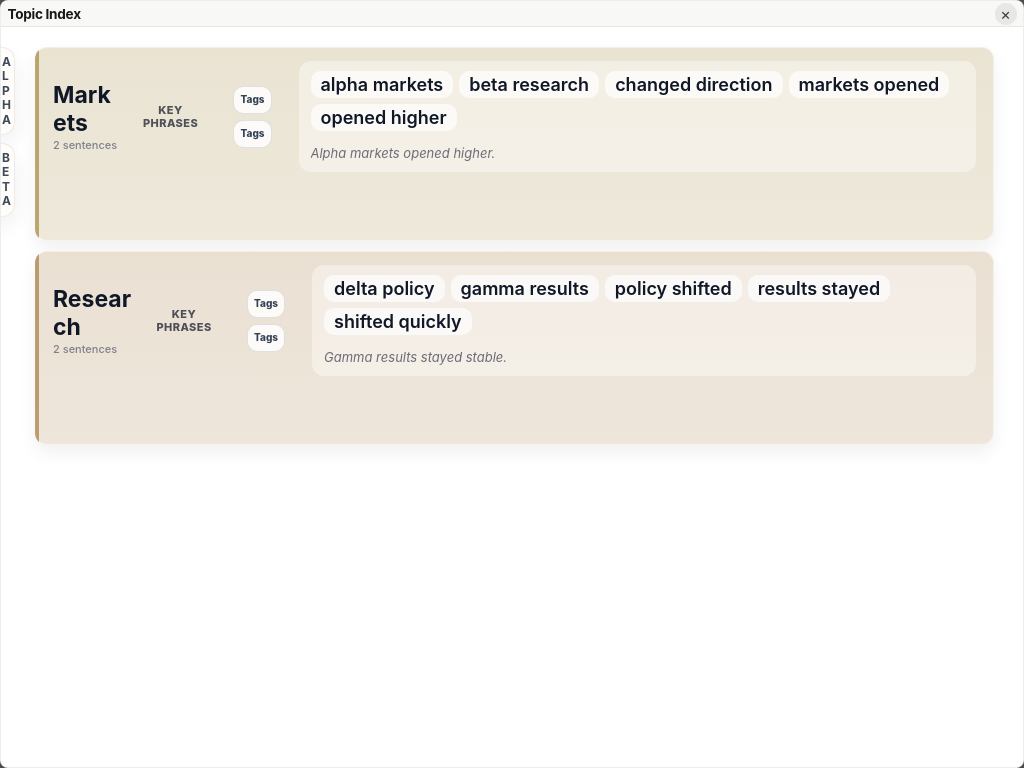
Test case: TopicIndexView › switches tile metadata independently per tile
Advance first tile to Tags (next after Key Phrases, with no subtopics)
Click the button with aria-label "Show next Tags for Alpha > Markets": [252, 134] box [234,120,272,148]
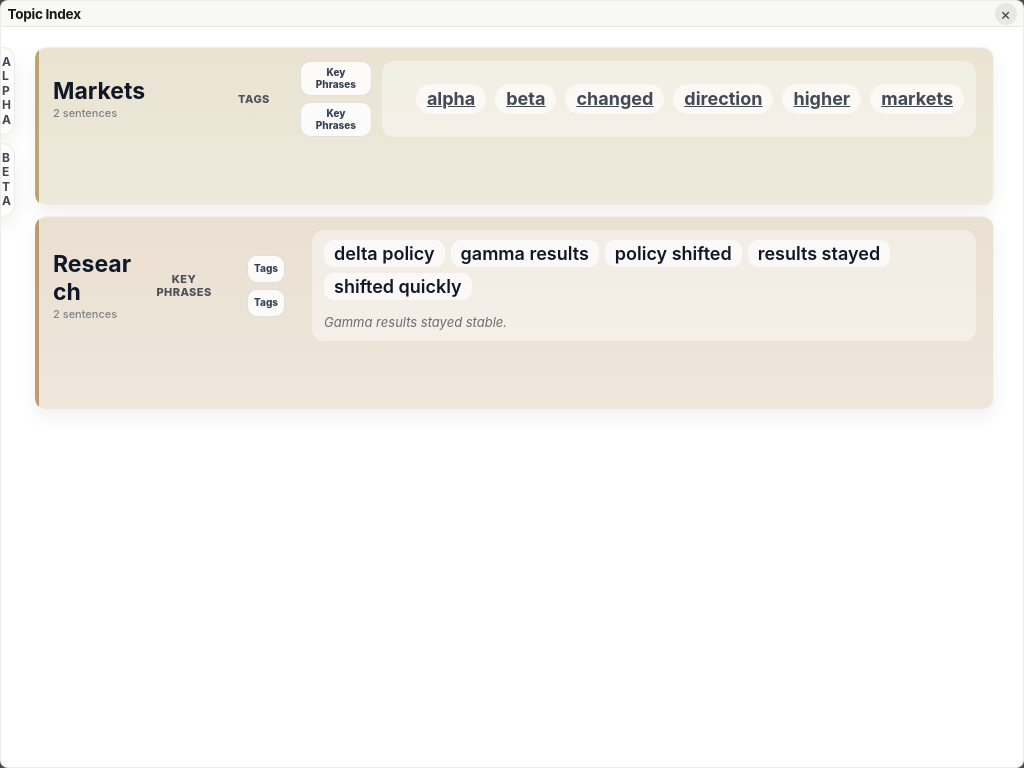
Expected: the text "Key Phrases" is shown, [156,272,212,299]
Expected: the text "Tags" is shown, [238,92,270,106]
